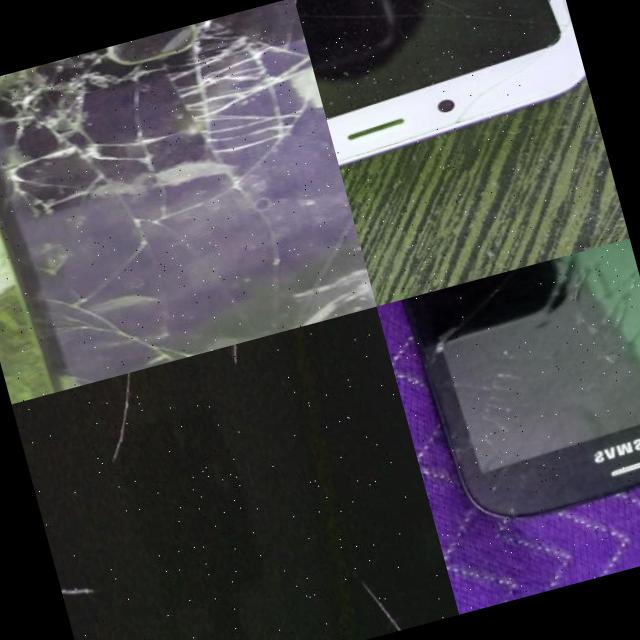scratch: (88, 363, 180, 460), (354, 550, 414, 636), (54, 557, 99, 600), (229, 336, 265, 362)
screen crack: (0, 0, 376, 395), (398, 237, 640, 490), (293, 0, 592, 169)
